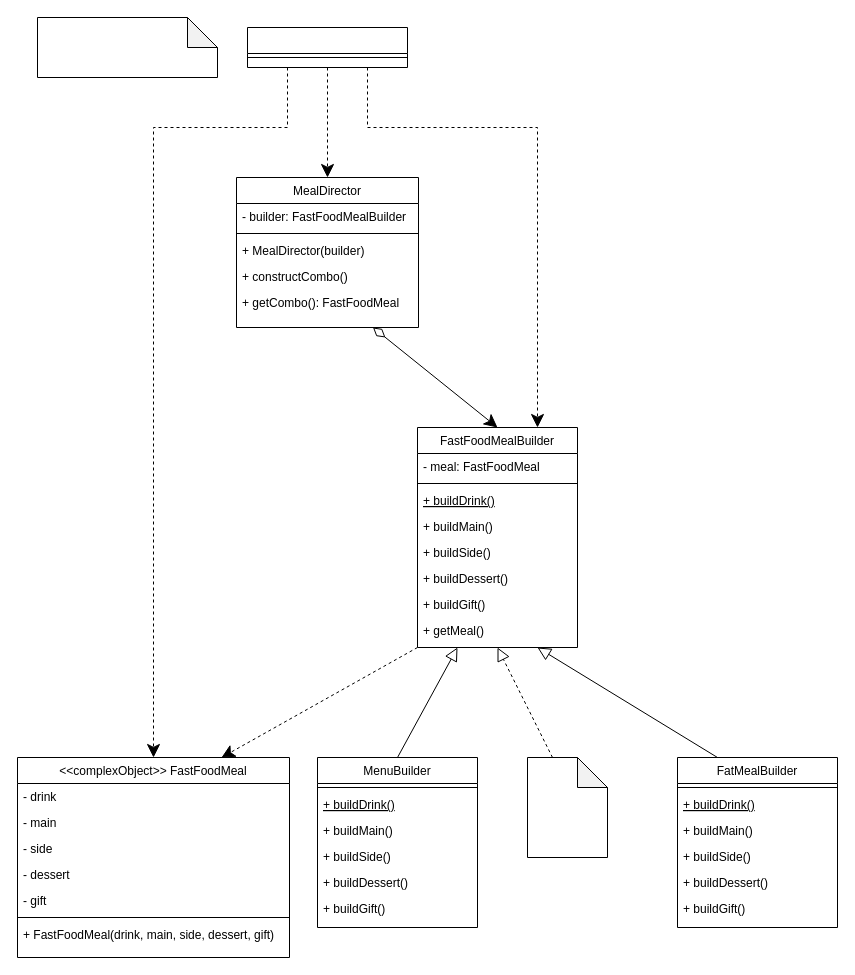
Some shapes in this 855 by 975 pixel diagram are drawn without their labels. The centre of each missing label's shape, as x and y in pixels:
Builder (Before) Meal: (127,47)
Client: (327,47)
Outros...: (567,807)
